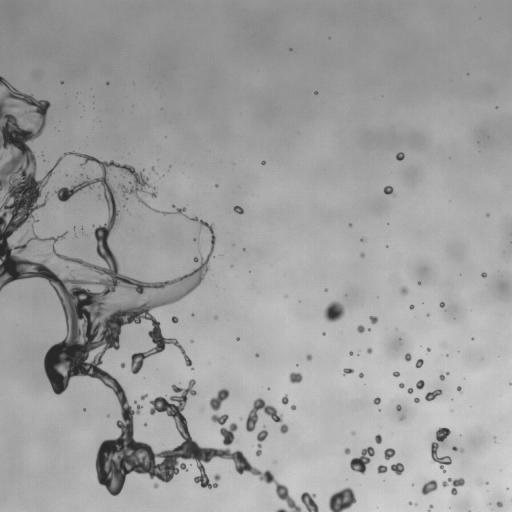droplet: (245, 398, 288, 433), (350, 446, 374, 474), (328, 487, 356, 511), (324, 301, 345, 322), (442, 478, 464, 495), (300, 492, 318, 511), (421, 480, 437, 495), (390, 462, 404, 475), (289, 372, 302, 383), (384, 448, 395, 459), (383, 186, 394, 196), (233, 206, 243, 214), (377, 465, 387, 473), (369, 316, 378, 324), (416, 380, 424, 389), (374, 434, 382, 443), (343, 368, 353, 375), (396, 152, 404, 160), (415, 359, 423, 367), (281, 395, 288, 404), (400, 286, 407, 294), (357, 325, 364, 333), (404, 353, 411, 361), (171, 316, 178, 323), (373, 397, 380, 404), (392, 371, 399, 377), (344, 448, 350, 454), (496, 501, 502, 507), (140, 394, 147, 399), (193, 235, 198, 241), (366, 348, 372, 353), (306, 354, 311, 360), (398, 383, 404, 388), (407, 388, 413, 393), (427, 505, 432, 511), (481, 272, 486, 277), (439, 302, 444, 307), (414, 397, 419, 402), (396, 405, 401, 410), (399, 415, 404, 420), (457, 386, 461, 392), (151, 167, 155, 172), (359, 373, 363, 378), (291, 405, 295, 410), (261, 161, 265, 165), (360, 253, 364, 257), (410, 305, 414, 309), (255, 353, 259, 357), (351, 431, 355, 435), (154, 483, 158, 487), (121, 362, 124, 367), (426, 348, 430, 351), (349, 352, 353, 355), (408, 502, 412, 505), (214, 316, 217, 319), (106, 82, 109, 84), (315, 91, 317, 94), (172, 205, 175, 207), (236, 338, 239, 340), (190, 340, 193, 342), (494, 437, 496, 440), (486, 481, 488, 484), (215, 184, 217, 186), (486, 214, 488, 216), (349, 224, 351, 226), (198, 250, 200, 252), (44, 255, 46, 257), (144, 423, 146, 425)
ligament: (0, 76, 304, 511), (431, 427, 451, 473), (209, 388, 229, 411), (256, 429, 268, 456), (425, 389, 442, 401), (439, 372, 448, 380), (452, 446, 463, 452), (510, 382, 511, 385)
